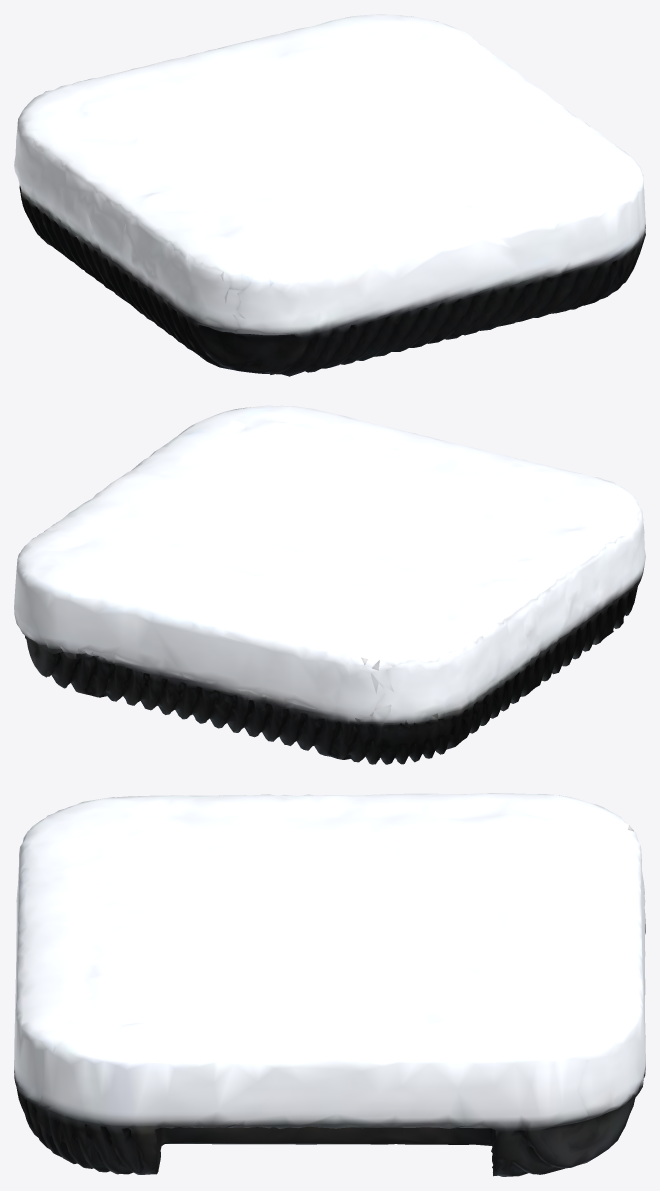
File: radio.glb
3 views of the same model, one above another, from view 1: azimuth 30°, elevation 25°; view 2: azimuth 150°, elevation 25°; view 3: azimuth 270°, elevation 25° (orthographic). The views are drawn at different scales.
Parts seen in each view (by area): view 1: Mesh_0_Part_0; view 2: Mesh_0_Part_0; view 3: Mesh_0_Part_0.
Boxes of the visible parts, left/top/right/bottom form: Mesh_0_Part_0: left=14, top=14, right=645, bottom=376; Mesh_0_Part_0: left=14, top=405, right=645, bottom=764; Mesh_0_Part_0: left=14, top=793, right=645, bottom=1176.
Size of the model in its own units: 18.15 by 4.78 by 18.23.
1 material, 1 textured.
